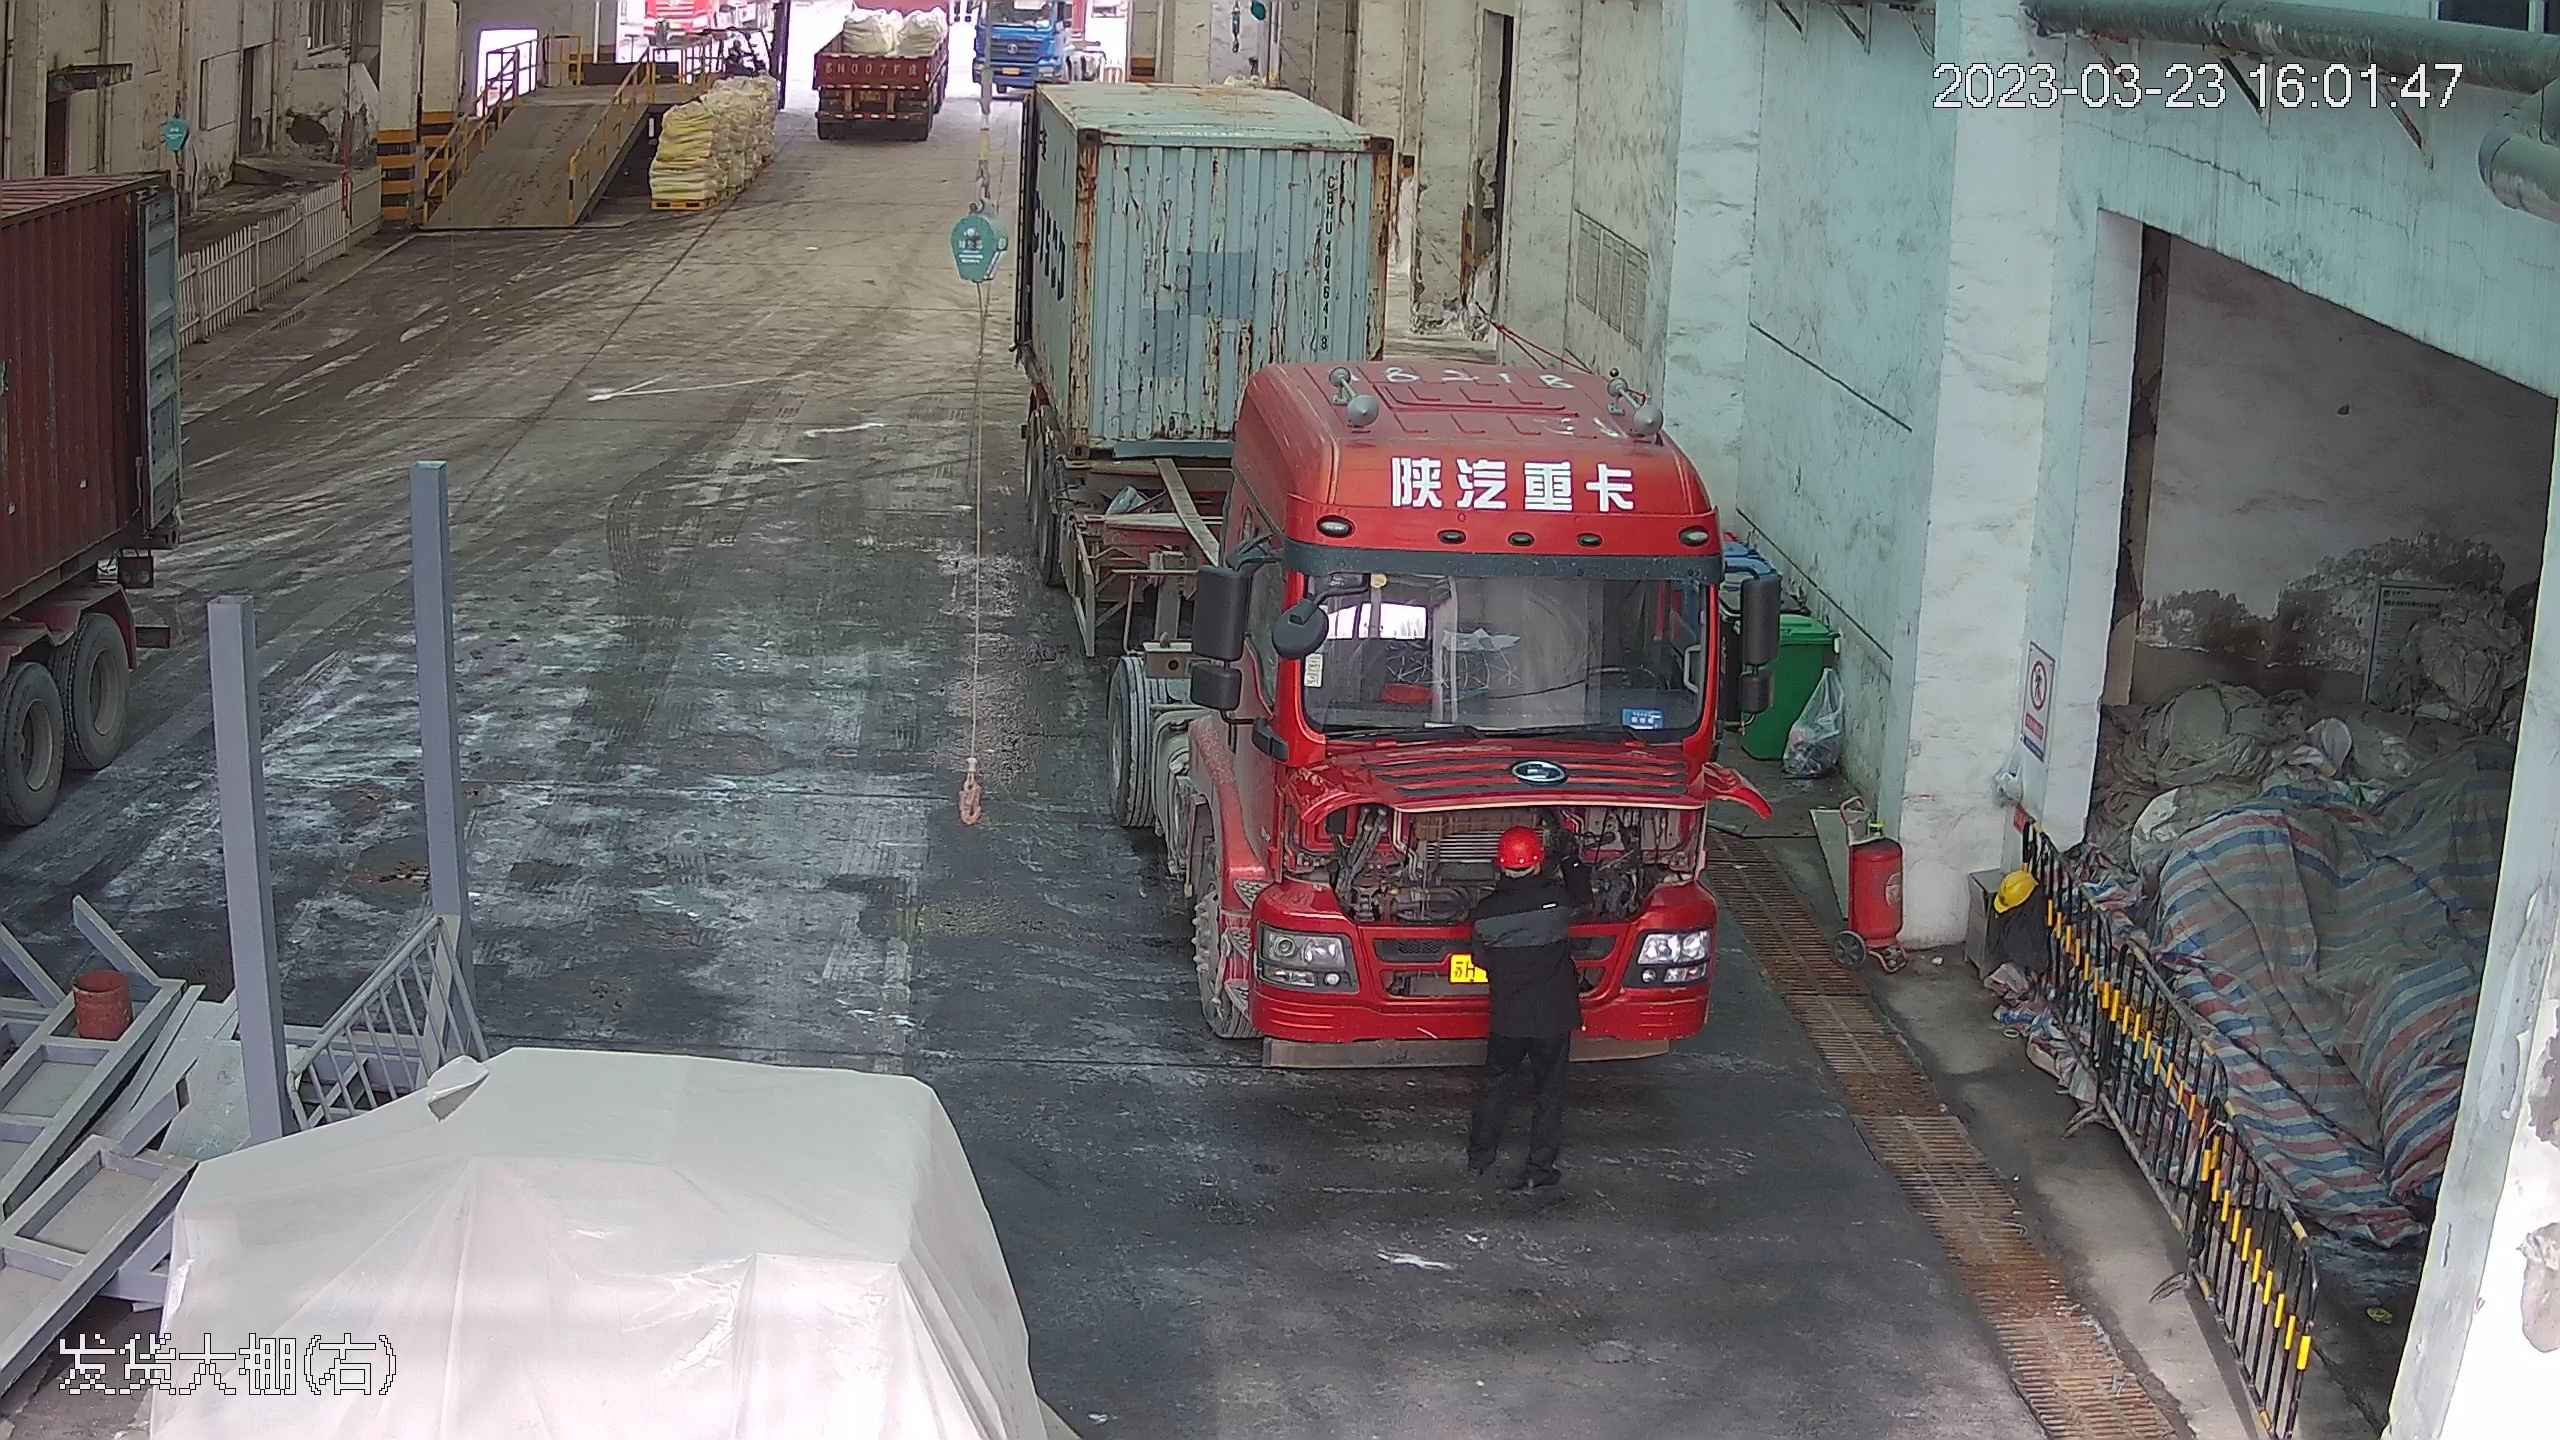head: (1469, 819, 1578, 942)
helmet: (1492, 821, 1549, 866), (1991, 861, 2037, 914)
people: (1457, 819, 1590, 1205)
truck: (992, 25, 1745, 1070), (0, 5, 203, 935), (797, 0, 961, 135)
